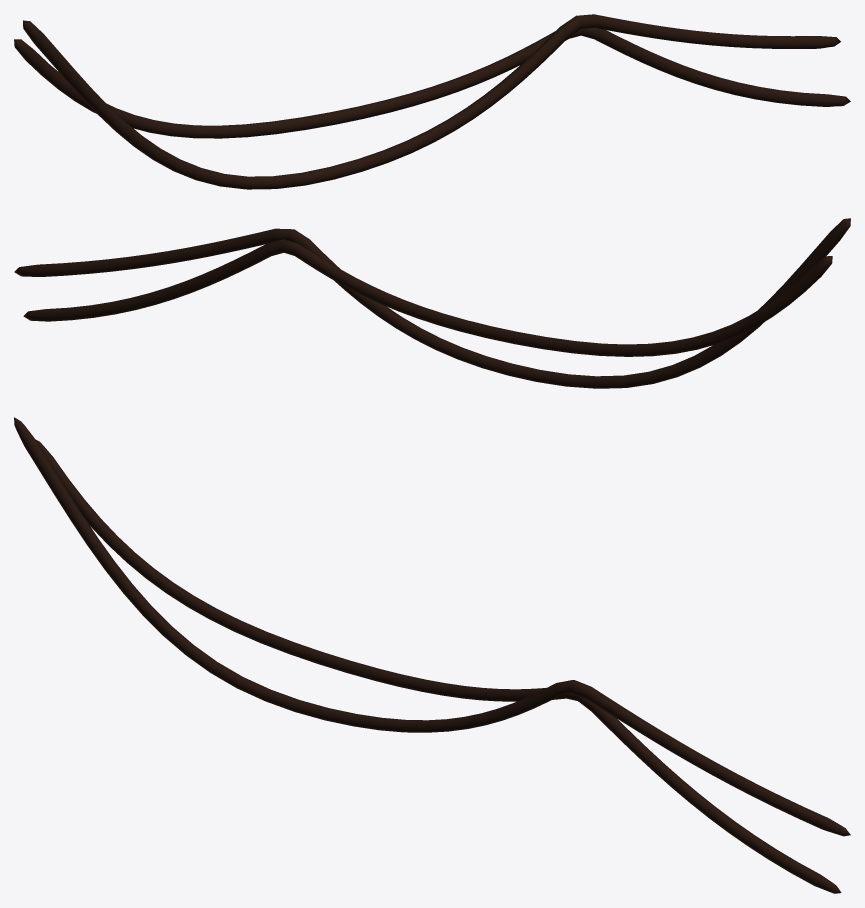
Rendered from wines_1.fbx.
The picture shows the model from 3 angles, top to bottom: view 1: azimuth 30°, elevation 25°; view 2: azimuth 150°, elevation 25°; view 3: azimuth 330°, elevation 25°; orthographic projection. The views are drawn at different scales.
Parts seen in each view (by area): view 1: Line006; view 2: Line006; view 3: Line006.
Part boxes in pixels (<box>): Line006: <box>14,14,850,189</box>; Line006: <box>14,218,850,388</box>; Line006: <box>14,417,850,893</box>.
Bounding box in the file's own units: 304 × 103 × 17.61.
